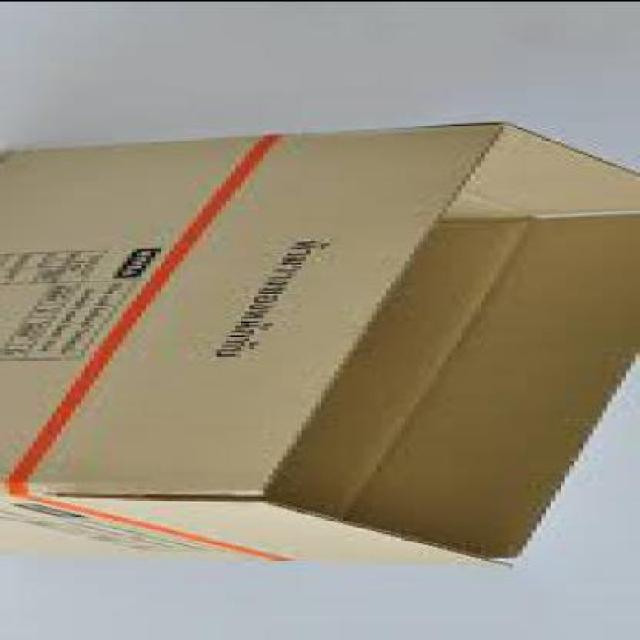CARDBOARD: (4, 119, 638, 566)
